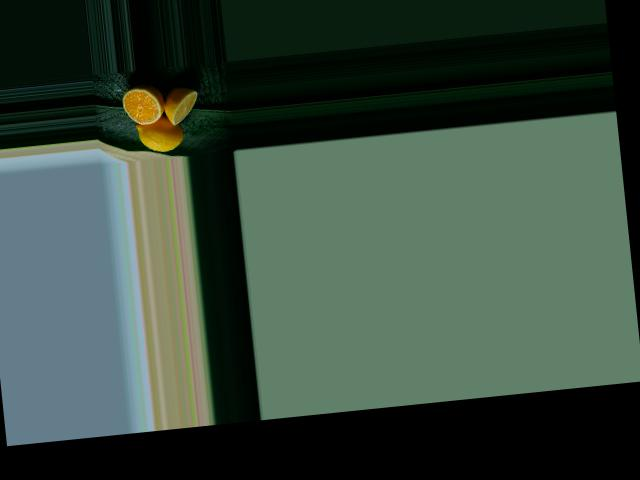lemon: (127, 111, 185, 154)
